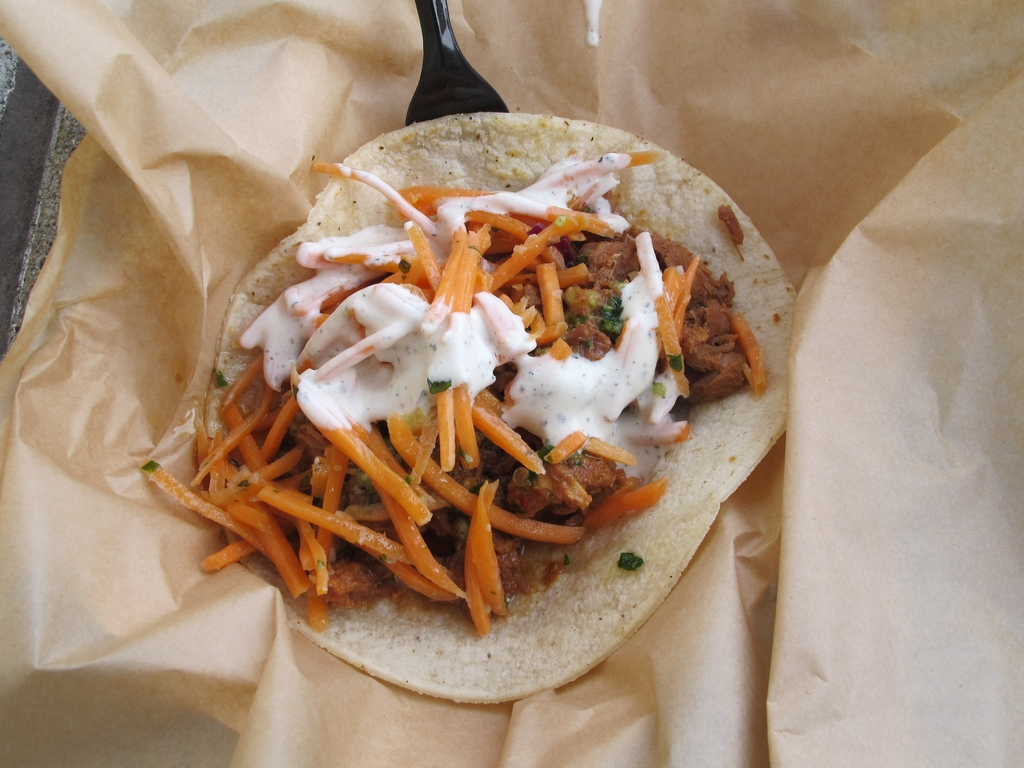taco: (129, 120, 792, 703)
